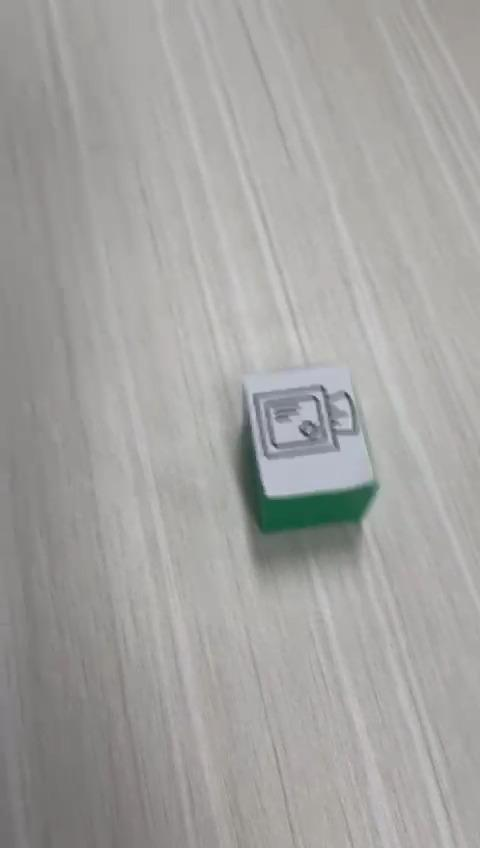Gauze: (240, 361, 379, 533)
